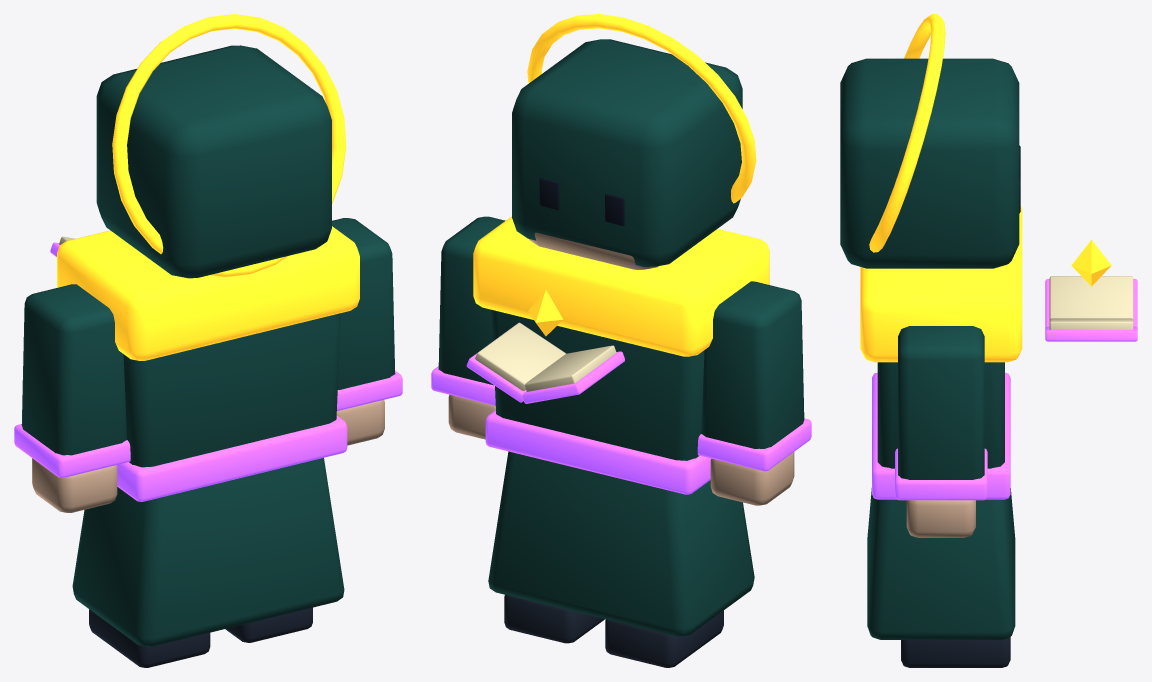
Rendered from npc_guide.glb.
3 views of the same model, side by side, from view 1: azimuth 30°, elevation 25°; view 2: azimuth 150°, elevation 25°; view 3: azimuth 270°, elevation 25° (orthographic). The views are drawn at different scales.
Parts seen in each view (by area): view 1: ScholarHood, LowerRobe, UpperTorso, ScholarMantle, LSleeve, AstrolabeHalo, SashBelt, RSleeve, LHand, LCuff, Boot_-1, Boot_1 (+2 smaller); view 2: ScholarHood, LowerRobe, ScholarMantle, UpperTorso, LSleeve, SashBelt, RSleeve, AstrolabeHalo, Boot_-1, TomePage_1, LHand, Boot_1 (+10 smaller); view 3: ScholarHood, LowerRobe, RSleeve, ScholarMantle, UpperTorso, AstrolabeHalo, TomePage_-1, Boot_1, SashBelt, RHand, RCuff, TomeCover_1 (+3 smaller).
Boxes of the visible parts, x1,y1,x2,y2 form: ScholarHood: (96,45,331,278); LowerRobe: (72,458,344,646); UpperTorso: (123,313,340,467); ScholarMantle: (57,226,359,360); LSleeve: (21,284,126,455); AstrolabeHalo: (112,14,346,277); SashBelt: (117,415,347,501); RSleeve: (332,218,395,389); LHand: (32,458,117,512); LCuff: (14,424,130,477); Boot_-1: (89,609,210,667); Boot_1: (225,607,312,642); ScholarHood: (512,39,742,266); LowerRobe: (488,451,754,636); ScholarMantle: (473,216,769,356); UpperTorso: (491,310,704,460); LSleeve: (701,281,804,448); SashBelt: (485,410,710,494); RSleeve: (438,216,505,385); AstrolabeHalo: (527,14,756,203); Boot_-1: (605,610,723,667); TomePage_1: (475,322,565,390); LHand: (710,452,794,505); Boot_1: (504,595,604,643); ScholarHood: (840,58,1019,268); LowerRobe: (867,488,1015,639); RSleeve: (898,326,984,479); ScholarMantle: (860,206,1022,362); UpperTorso: (877,362,1004,468); AstrolabeHalo: (869,14,945,252); TomePage_-1: (1049,276,1133,319); Boot_1: (901,637,1010,667); SashBelt: (872,372,1010,499); RHand: (906,500,975,537); RCuff: (895,448,987,500); TomeCover_1: (1045,326,1137,341).
Bounding box in the file's own units: 1.34 × 2.3 × 1.03.
